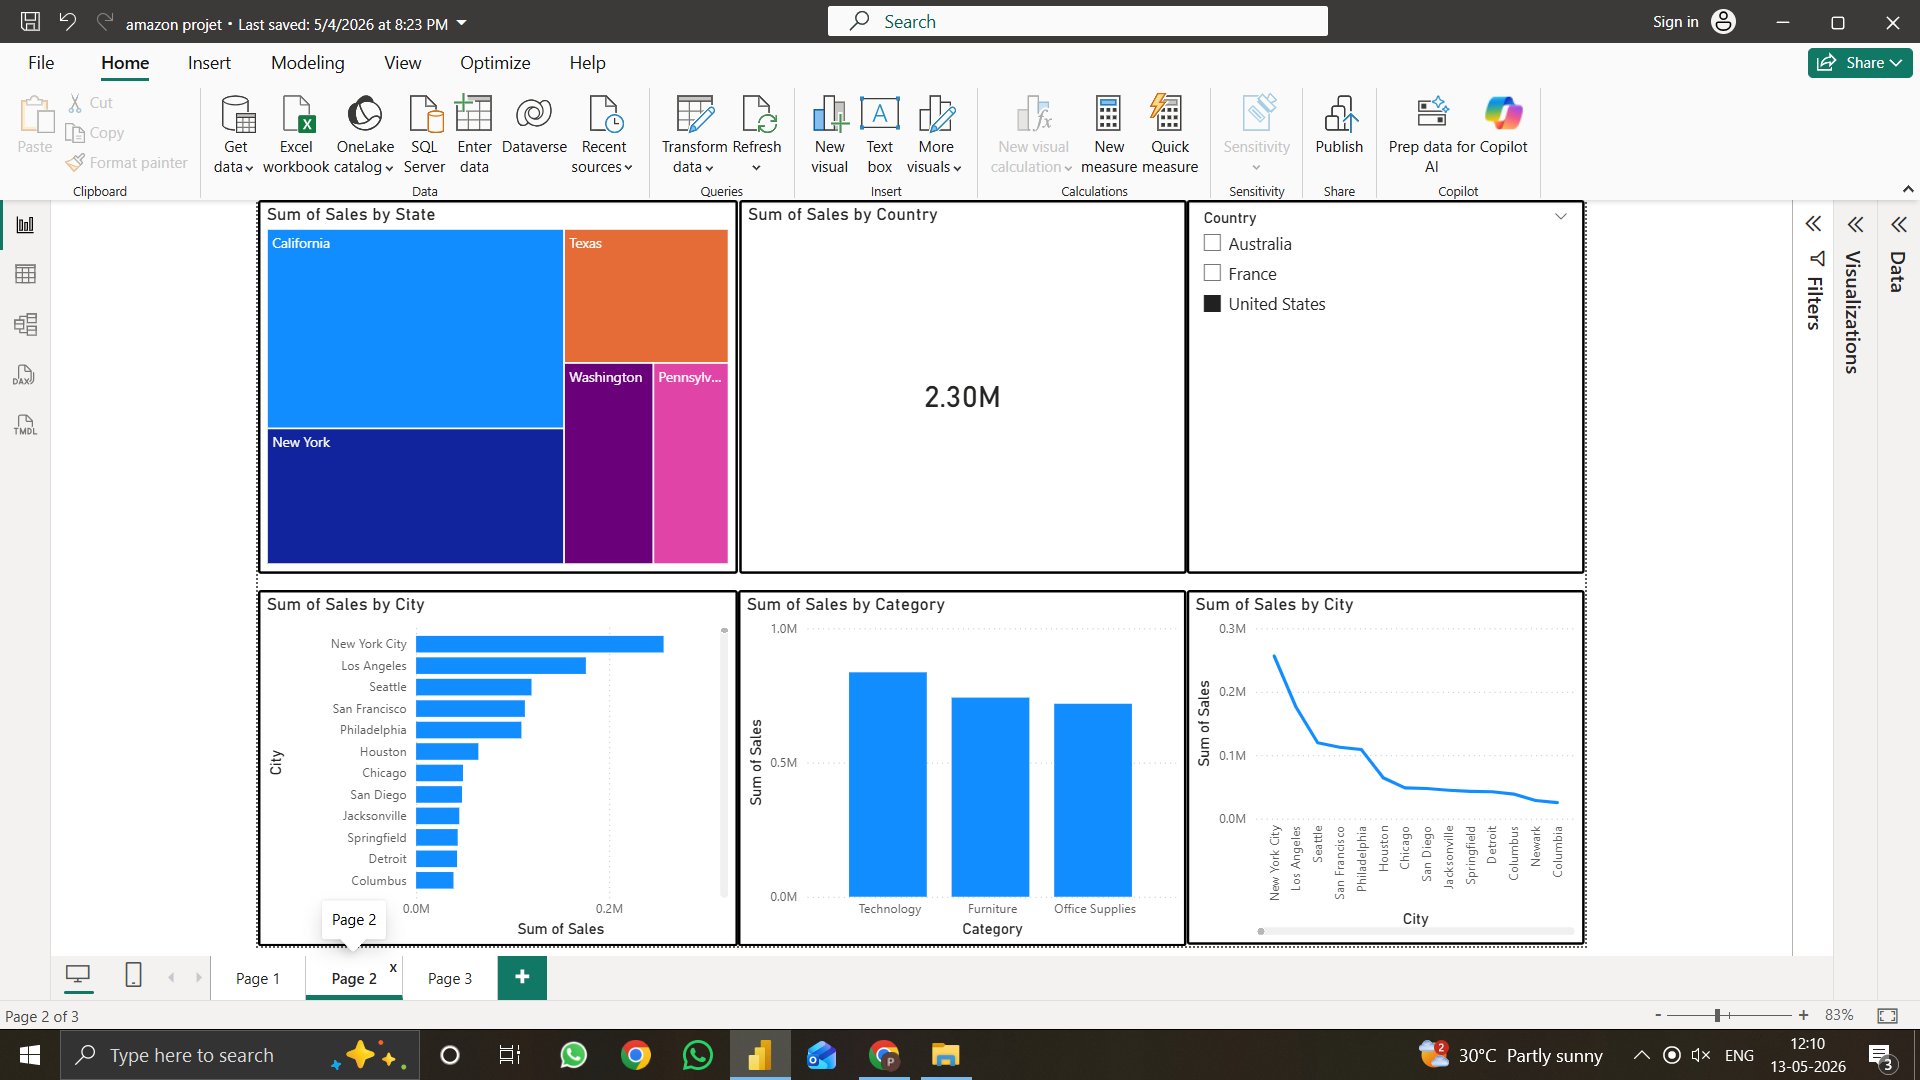

What the dashboard file says about the page in this screenshot:
{"tool":"powerbi","page":{"name":"Page 2","canvas":[1280,720],"ordinal":1},"visuals":[{"type":"barChart","fields":{"Category":["Orders.City"],"Y":["Sum(Orders.Sales)"]},"box":[0,377,463.3,344.1],"z":0},{"type":"treemap","fields":{"Group":["Orders.State"],"Values":["Sum(Orders.Sales)"]},"box":[0,0,463.3,360.5],"z":1000},{"type":"slicer","fields":{"Values":["Orders.Country"]},"box":[896.5,0,383.8,360.5],"z":2000},{"type":"clusteredColumnChart","fields":{"Y":["Sum(Orders.Sales)"],"Category":["Orders.Category"]},"box":[463.3,377,433.2,344.1],"z":3000},{"type":"lineChart","fields":{"Y":["Sum(Orders.Sales)"],"Category":["Orders.City"]},"box":[896.5,377,383.8,342.7],"z":4000},{"type":"kpi","fields":{"TrendLine":["Orders.Country"],"Indicator":["Sum(Orders.Sales)"]},"box":[464.7,0,431.8,360.5],"z":5000}]}

Visuals, with their boxes on the page's 1280x720 design canvas (x1, y1, x2, y2). These are canvas units, not pixel positions in the 1920x1080 screenshot, which may show the page scaled, cropped or inside an application window:
barChart - Orders.City x Sum(Orders.Sales): detection(0, 377, 463, 721)
treemap - Orders.State x Sum(Orders.Sales): detection(0, 0, 463, 360)
slicer - Orders.Country: detection(896, 0, 1280, 360)
clusteredColumnChart - Sum(Orders.Sales) x Orders.Category: detection(463, 377, 896, 721)
lineChart - Sum(Orders.Sales) x Orders.City: detection(896, 377, 1280, 720)
kpi - Orders.Country x Sum(Orders.Sales): detection(465, 0, 896, 360)
